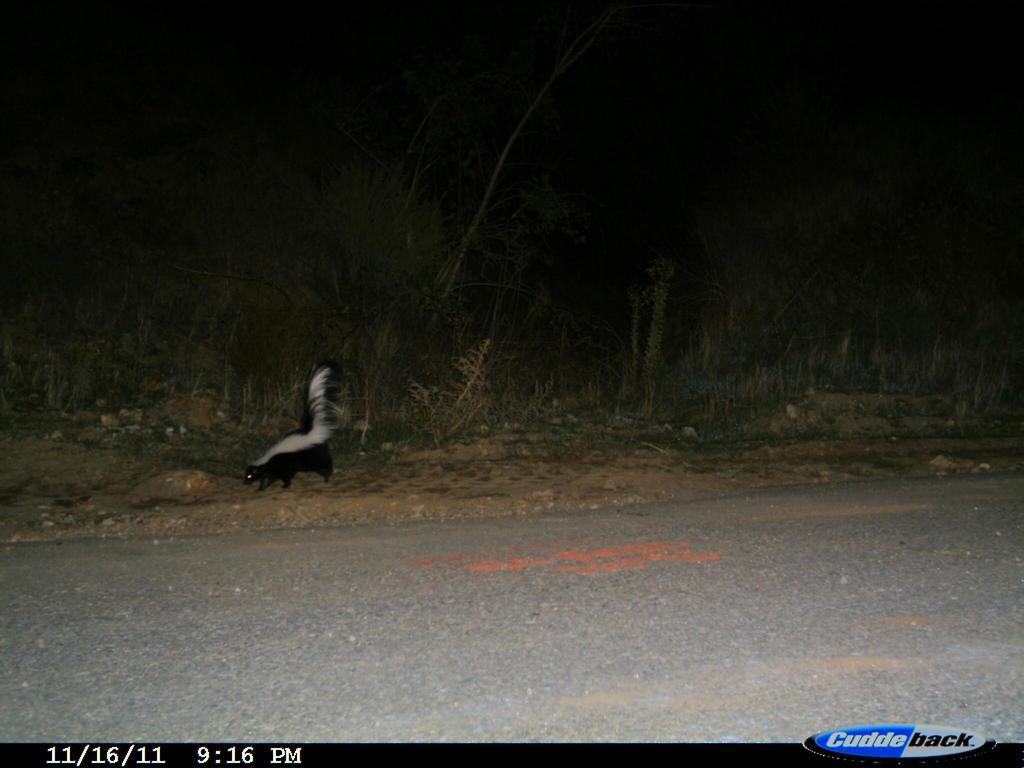skunk: (241, 359, 350, 496)
